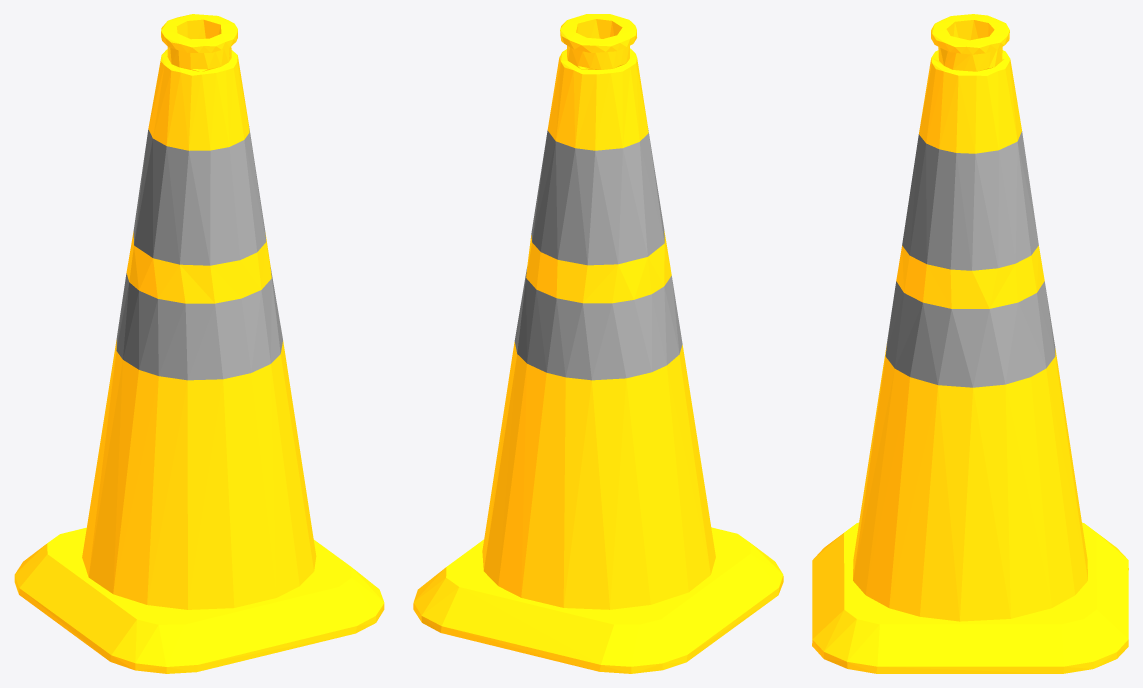
File: cone_orange_big.dae
3 views of the same model, side by side, from view 1: azimuth 30°, elevation 25°; view 2: azimuth 150°, elevation 25°; view 3: azimuth 270°, elevation 25° (orthographic).
Parts seen in each view (by area): view 1: _8_Inch; view 2: _8_Inch; view 3: _8_Inch.
Boxes of the visible parts, box(x1,y1,x2,y2) form: _8_Inch: box(14, 14, 384, 673); _8_Inch: box(413, 14, 783, 673); _8_Inch: box(812, 14, 1128, 673).
Size of the model in its own units: 0.2613 by 0.2613 by 0.5255.
